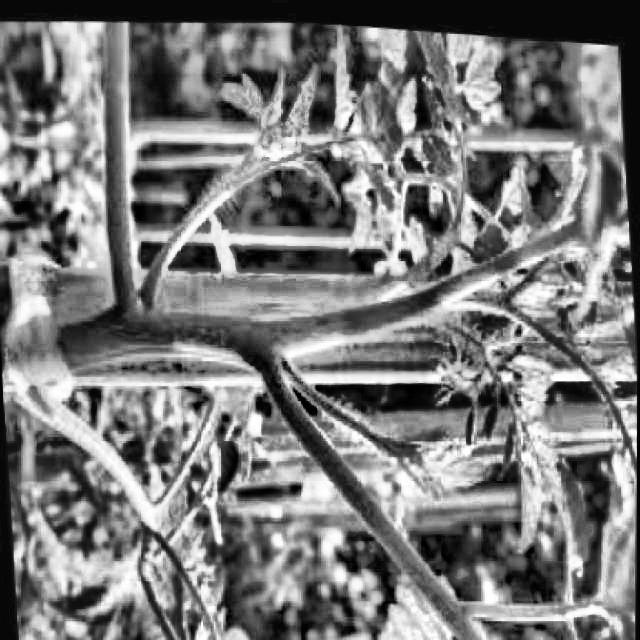plants: (24, 1, 640, 638)
